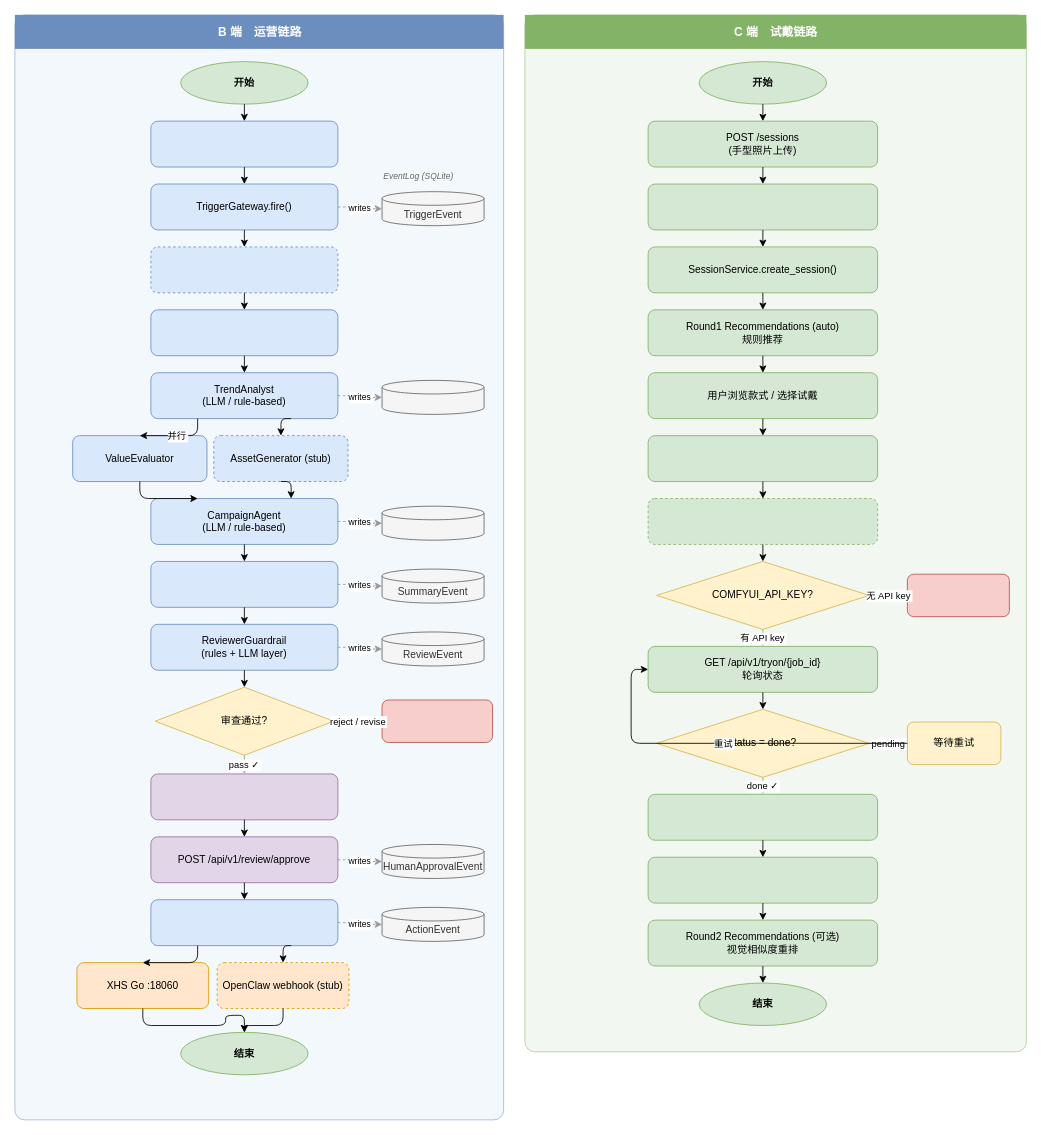
Image size: 1041x1135. Some labels were removed from this diagram. Each missing label, with the box of its shape:
BackgroundTask: ComfyUIClient.run_tryon(): (647, 498, 878, 544)
BackgroundTask: run_pipeline(): (150, 246, 338, 293)
HandAnalyzer (MediaPipe) 手型 + 肤色分析: (647, 183, 878, 230)
POST /api/v1/action/publish ActionExecutor.publish(): (150, 899, 338, 946)
POST /api/v1/trigger: (150, 120, 338, 167)
POST /api/v1/tryon/submit {image_base64, style_id}: (647, 435, 878, 482)
POST /sessions/{id}/events 行为事件记录: (647, 856, 878, 903)
reject / revise → 终止: (381, 699, 493, 742)
SignalCollector.collect(keywords): (150, 309, 338, 356)
status = failed (无 COMFYUI_API_KEY): (907, 573, 1009, 617)
StrategyEvent: (381, 505, 484, 540)
Summarizer → CandidatePackage: (150, 561, 338, 607)
TrendEvent: (381, 380, 484, 414)
商家查看 EventLog 轨迹 GET /api/v1/events: (150, 773, 338, 820)
显示试戴结果 result_url: (647, 793, 878, 840)
